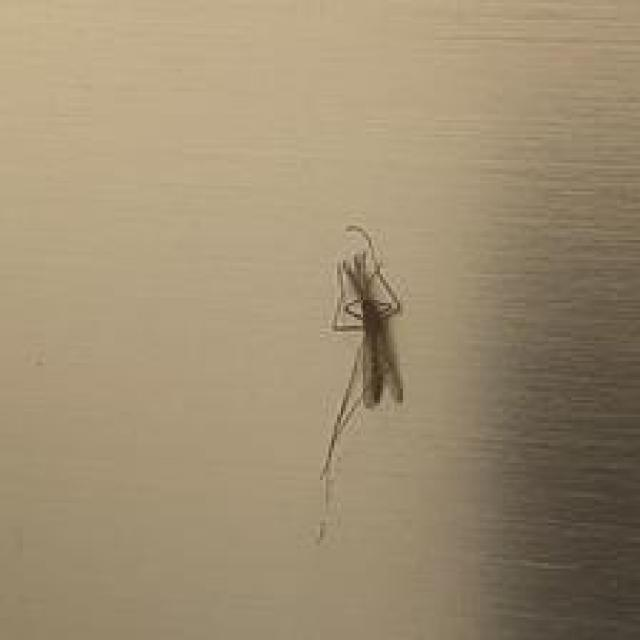Culex: (313, 223, 407, 543)
